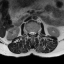CCS_normal: (31, 29, 33, 37)
LFS_normal: (35, 29, 37, 35)
LLS_normal: (33, 29, 35, 36)
RFS_normal: (28, 29, 29, 36)
RLS_normal: (29, 29, 31, 36)
